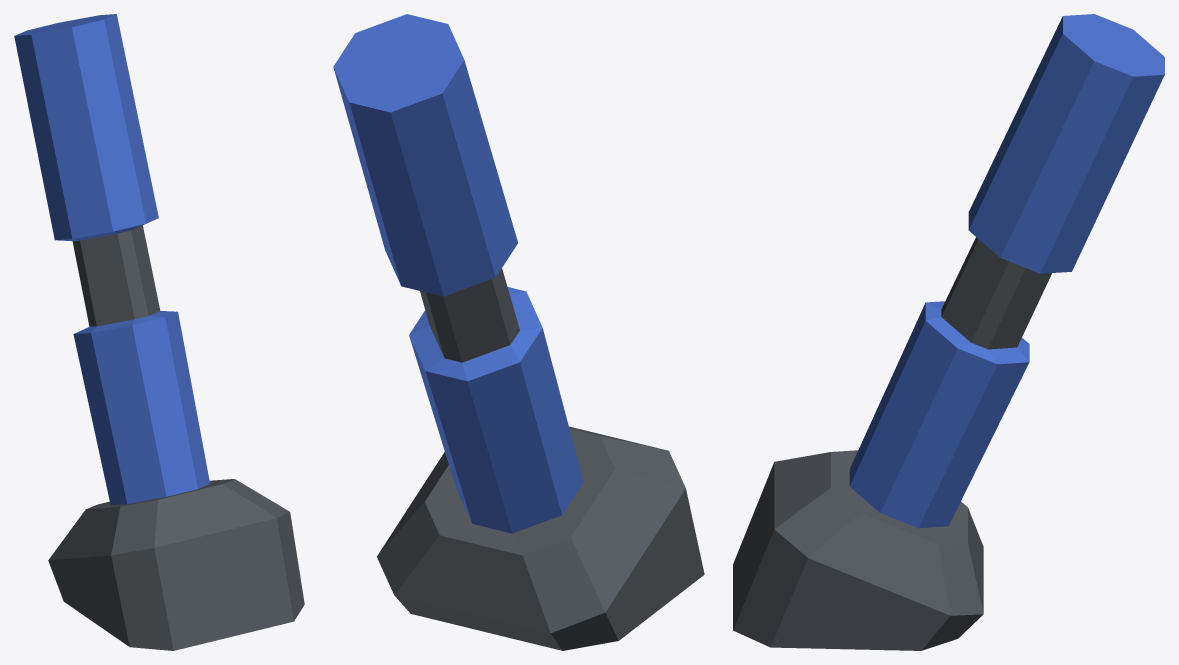
The model's file is Dropship_04_Lander_Front_Blue.fbx.
3 views of the same model, side by side, from view 1: azimuth 30°, elevation 25°; view 2: azimuth 150°, elevation 25°; view 3: azimuth 270°, elevation 25° (orthographic). The views are drawn at different scales.
Parts seen in each view (by area): view 1: Dropship_04_Lander_Front_Blue; view 2: Dropship_04_Lander_Front_Blue; view 3: Dropship_04_Lander_Front_Blue.
Boxes of the visible parts, x1,y1,x2,y2 form: Dropship_04_Lander_Front_Blue: (14,14,304,650); Dropship_04_Lander_Front_Blue: (333,14,704,650); Dropship_04_Lander_Front_Blue: (733,14,1164,650).
Bounding box in the file's own units: 81.34 × 227 × 150.
1 material, 1 textured.
